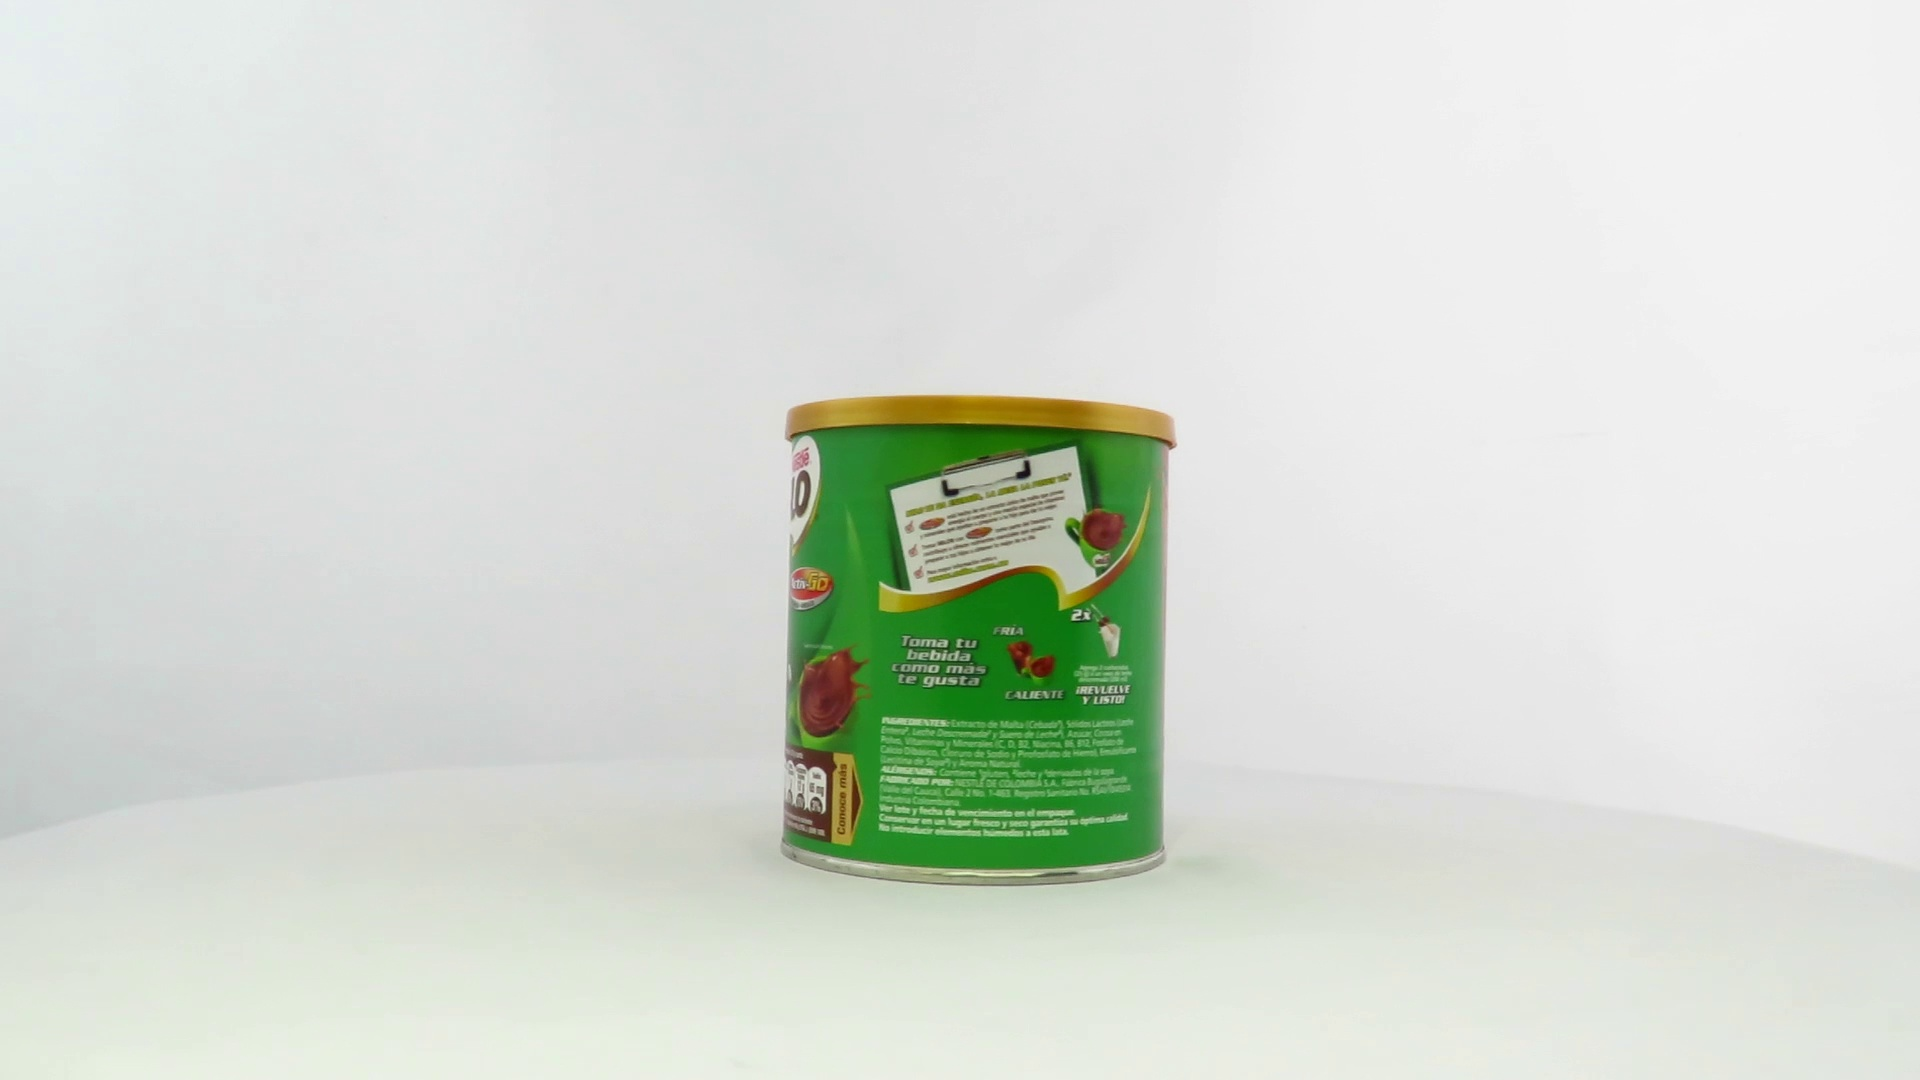COL0170203LAT40000: (775, 390, 1183, 893)
